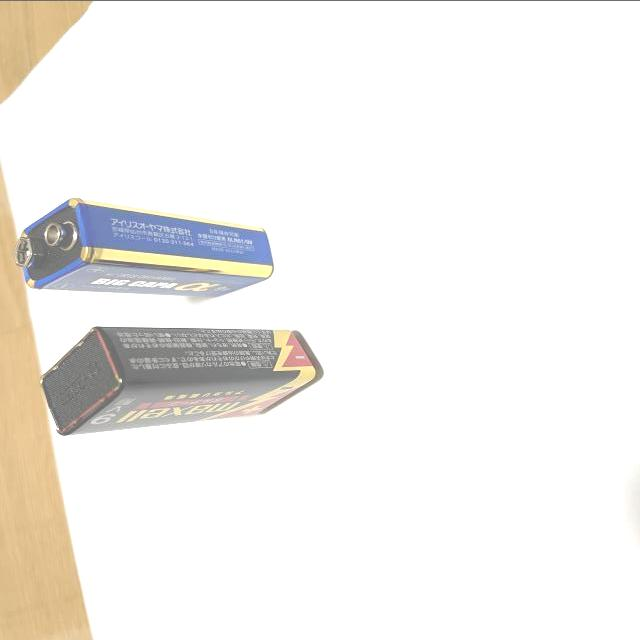9V: (40, 323, 317, 435), (13, 196, 275, 299)
